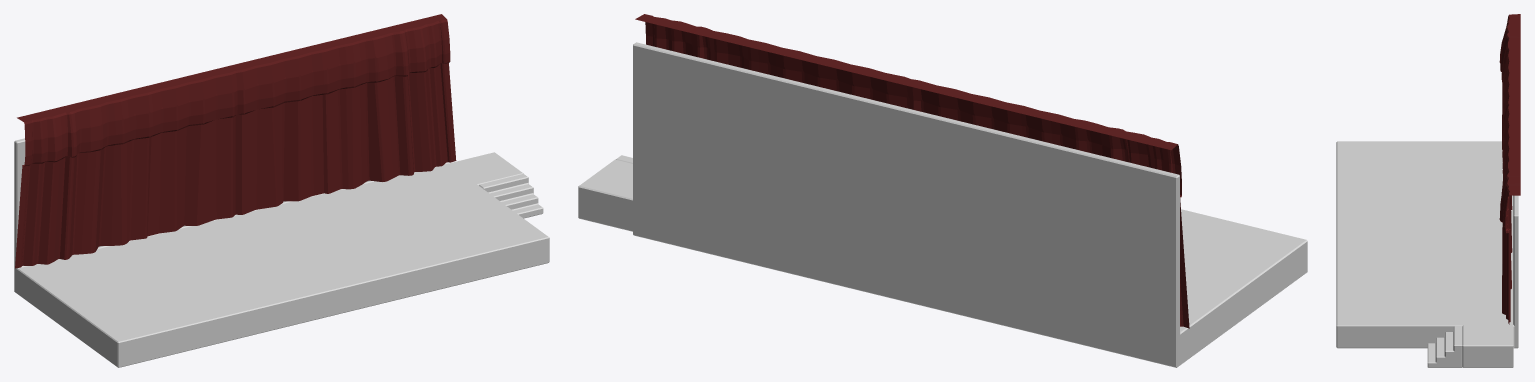
The model's file is stageplatfrom.fbx.
The picture shows the model from 3 angles, left to right: view 1: azimuth 30°, elevation 25°; view 2: azimuth 150°, elevation 25°; view 3: azimuth 270°, elevation 25°; orthographic projection. The views are drawn at different scales.
Parts seen in each view (by area): view 1: redCloth, stage; view 2: stage, redCloth; view 3: stage, redCloth.
Part boxes in pixels (bbox=[...]): redCloth: bbox=[15, 14, 456, 268]; stage: bbox=[14, 138, 549, 367]; stage: bbox=[578, 42, 1307, 367]; redCloth: bbox=[635, 14, 1189, 328]; stage: bbox=[1336, 141, 1518, 367]; redCloth: bbox=[1499, 14, 1520, 324].
Size of the model in its own units: 1168 by 400 by 440.
